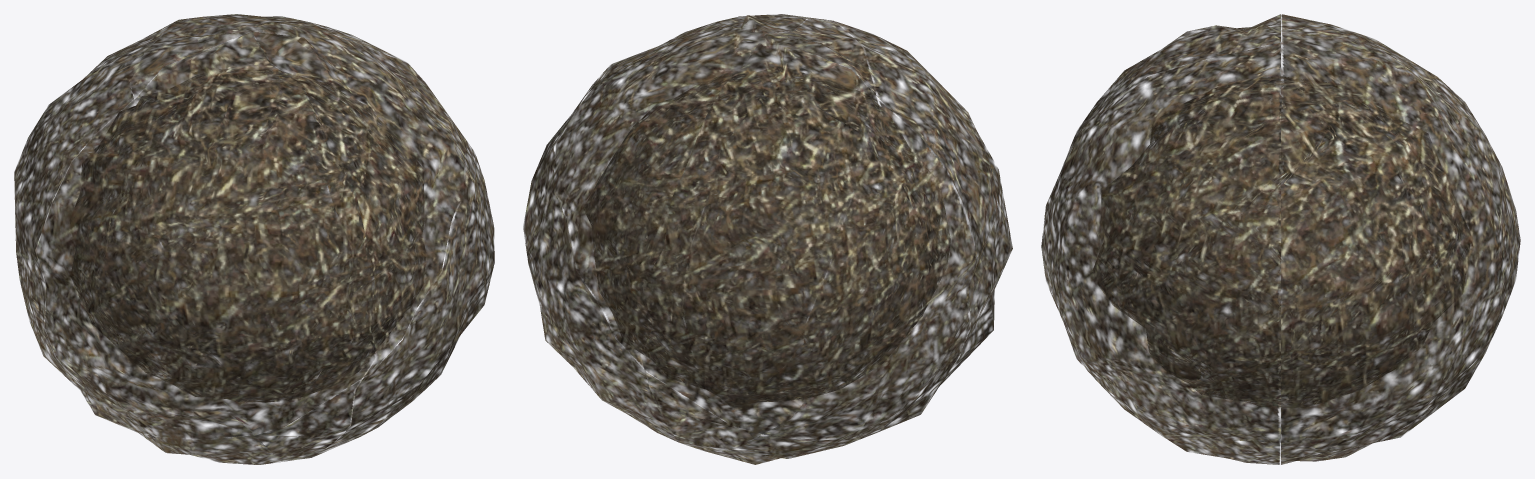
The model's file is object_168_lev2.glb.
3 views of the same model, side by side, from view 1: azimuth 30°, elevation 25°; view 2: azimuth 150°, elevation 25°; view 3: azimuth 270°, elevation 25° (orthographic).
Visible parts, largest first — view 1: object_168_lev2; view 2: object_168_lev2; view 3: object_168_lev2.
Boxes of the visible parts, x1,y1,x2,y2 form: object_168_lev2: (14,14,494,464); object_168_lev2: (523,14,1012,464); object_168_lev2: (1041,14,1520,464).
Bounding box in the file's own units: 1.56 × 1.41 × 1.53.
Materials: 1 (1 with a texture image).
